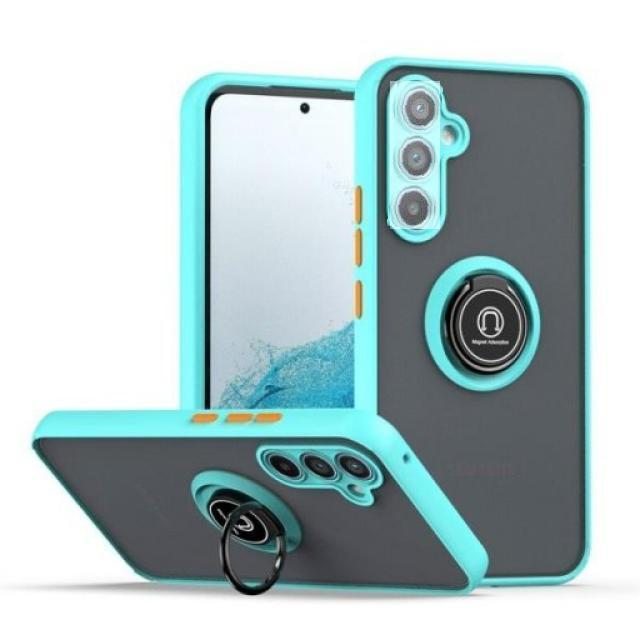lens: (390, 81, 440, 229), (269, 449, 366, 481), (299, 101, 312, 114)
phone: (366, 51, 595, 596), (30, 405, 485, 617), (182, 69, 365, 416)
